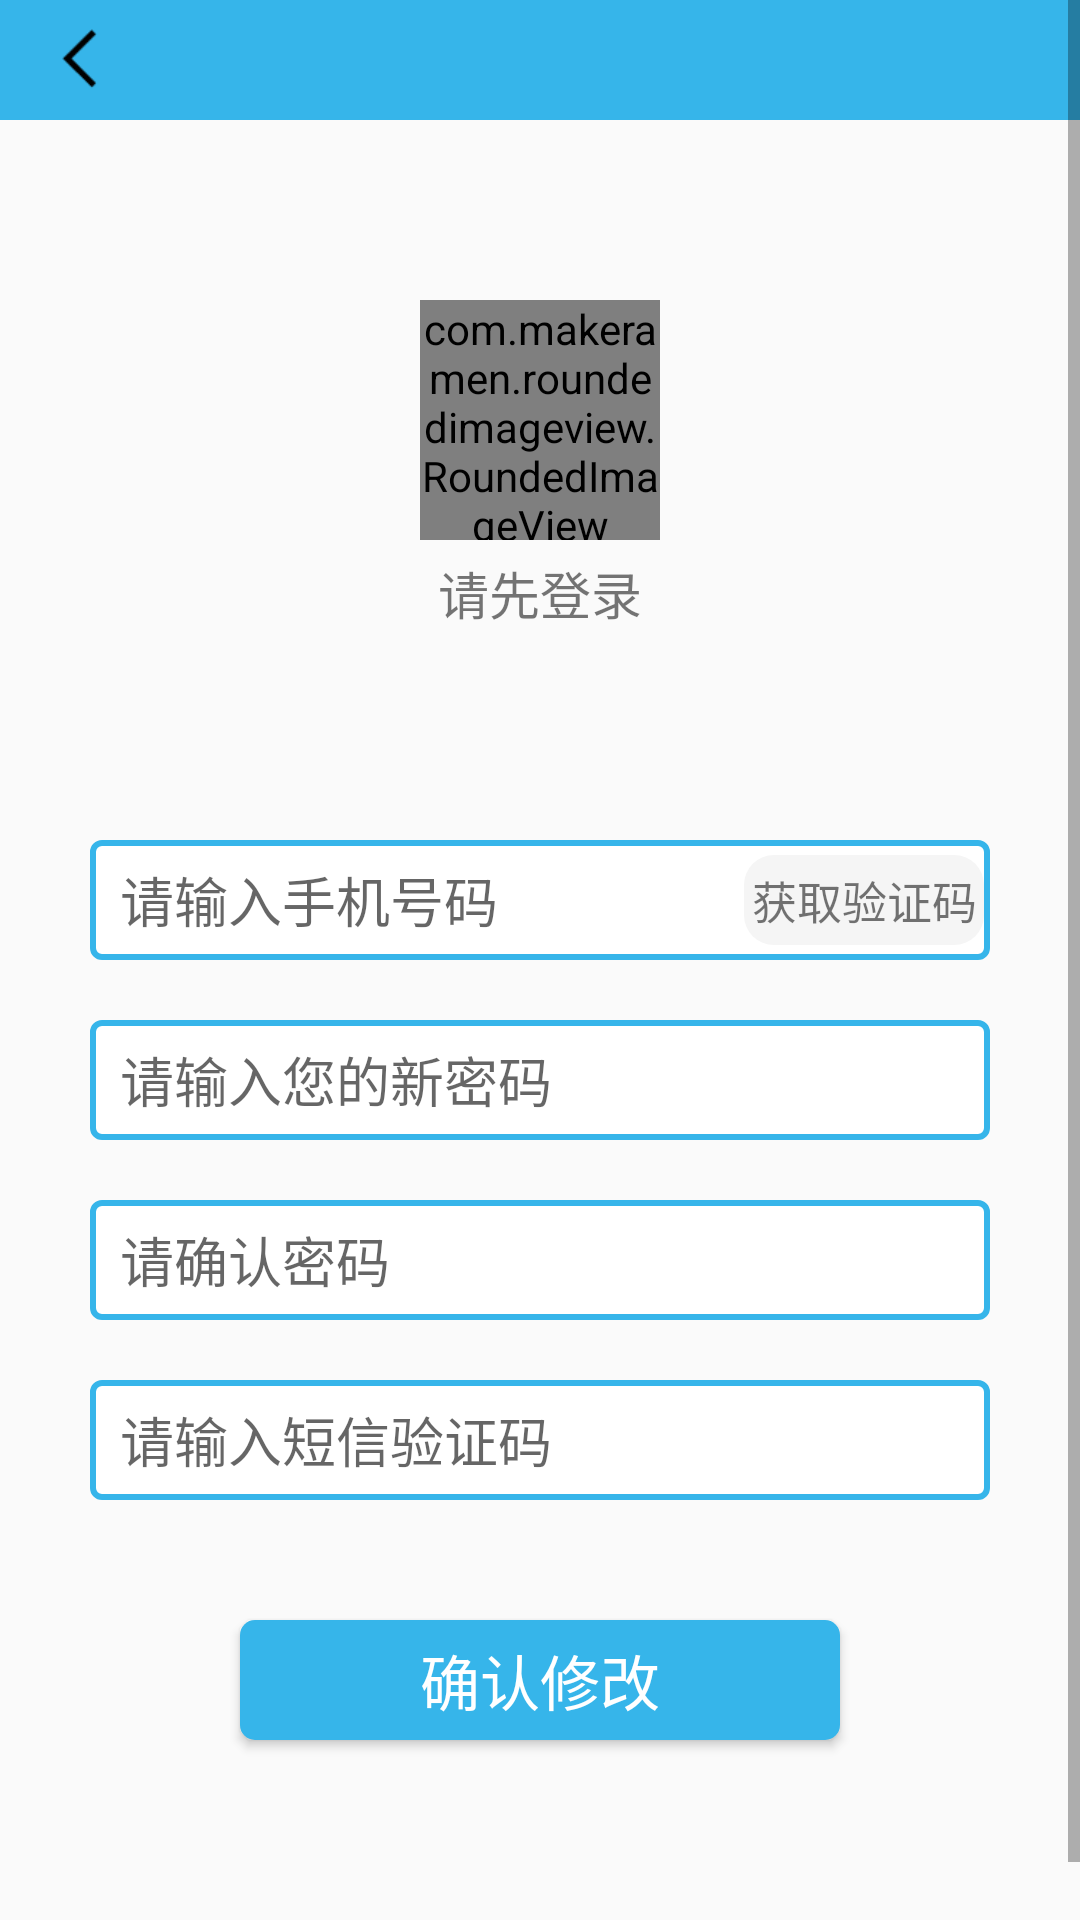

Point at icon controls on the screen. Image size 1080px×1920px, points as [x,y].
mine leftarrow: [79,58]
